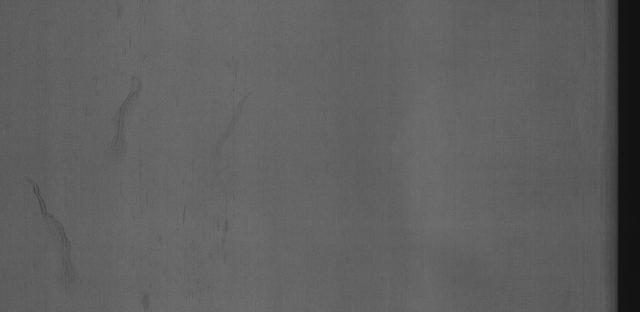water_spot: (24, 174, 92, 291), (99, 76, 150, 156)
